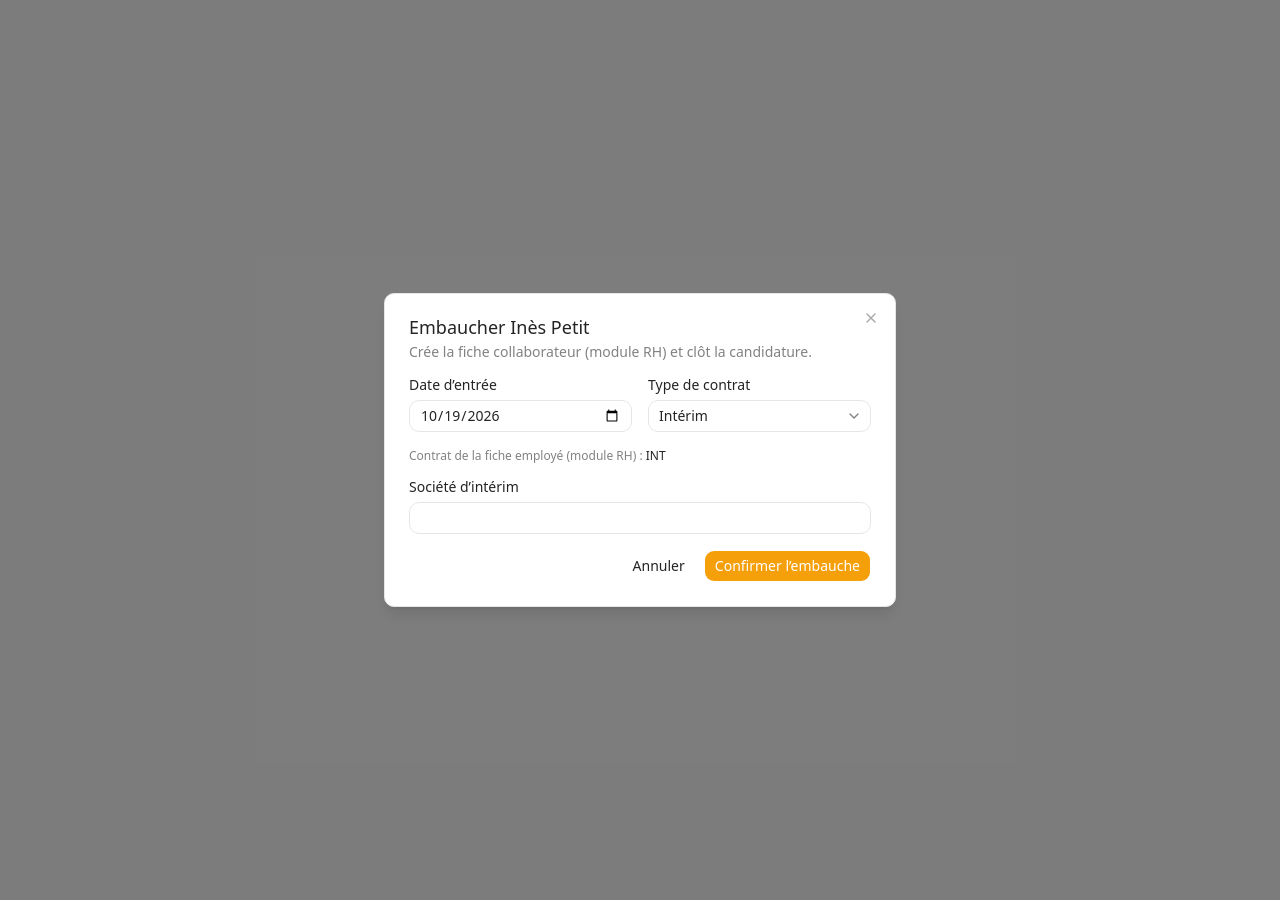
Test case: EmbaucheDialog › confirme l’embauche puis propose le dossier collaborateur et l’onboarding
This screenshot has width=1280, height=900.
Type "Intérim BTP Rhône" into the field labelled "Société d’intérim" at coordinates (640, 518), box top-left (409, 502), bottom-right (871, 534)
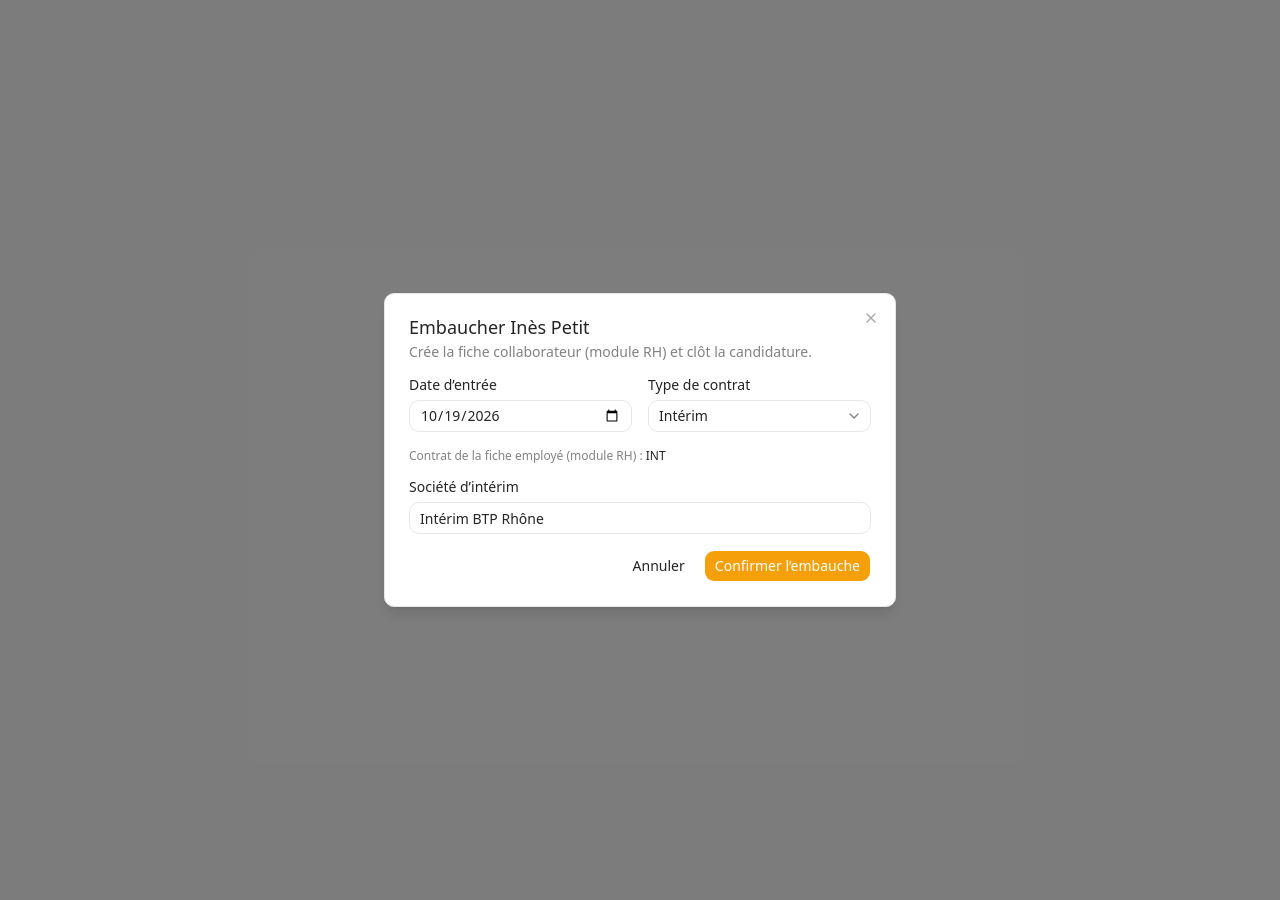
Type "2026-11-02" into the date field labelled "Date d’entrée" at coordinates (520, 416), box top-left (409, 400), bottom-right (632, 432)
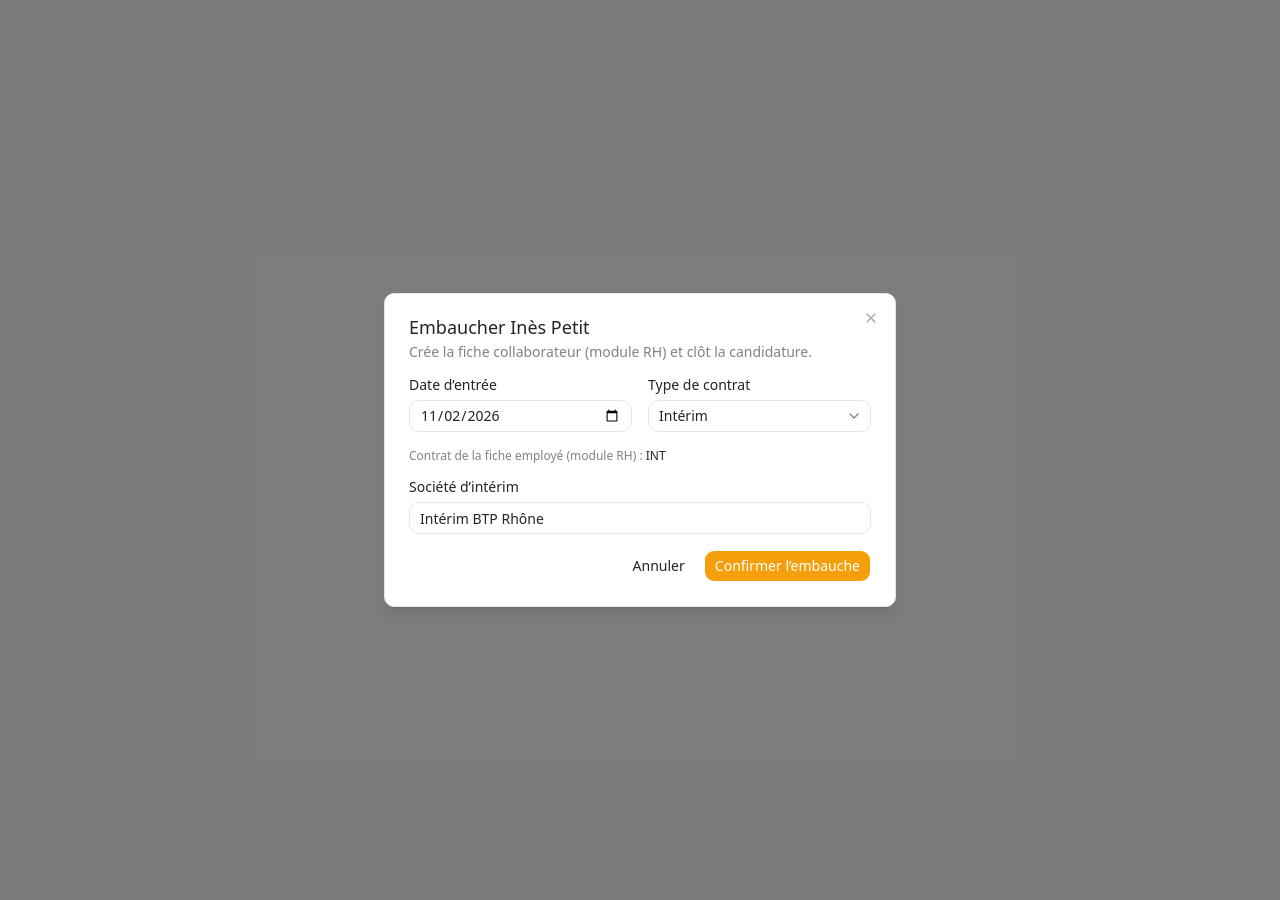
Click the button "Confirmer l’embauche" at coordinates (787, 566), box top-left (704, 550), bottom-right (871, 582)
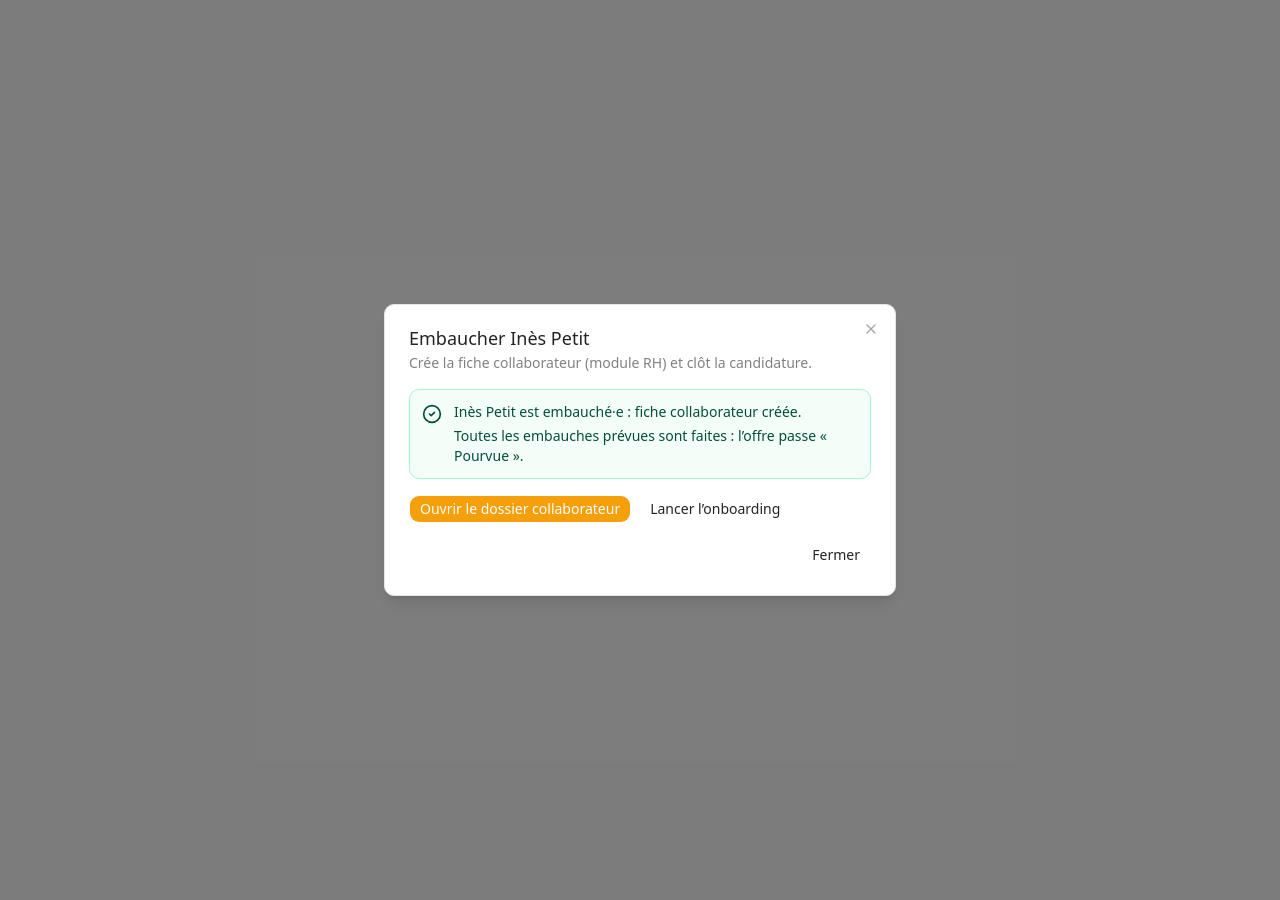
Expected: the text "Inès Petit est embauché·e : fiche collaborateur créée." is shown, top-left (454, 402), bottom-right (858, 422)
Expected: the text "l’offre passe « Pourvue »" is shown, top-left (454, 426), bottom-right (827, 465)
